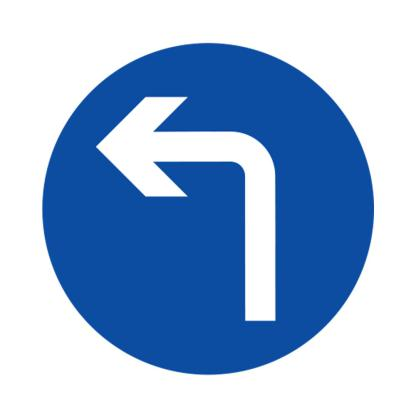left: (32, 18, 395, 384)
